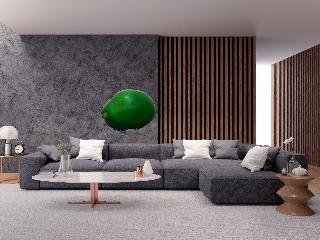lime: (101, 90, 156, 131)
